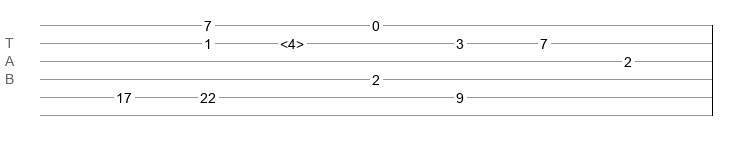0: (372, 18, 380, 28)
1: (204, 36, 212, 46)
17: (116, 90, 132, 100)
2: (372, 72, 380, 82), (624, 54, 632, 64)
22: (200, 90, 216, 100)
3: (456, 36, 464, 46)
7: (204, 18, 212, 28), (540, 36, 548, 46)
9: (456, 90, 464, 100)
harmonic: (280, 36, 304, 46)
